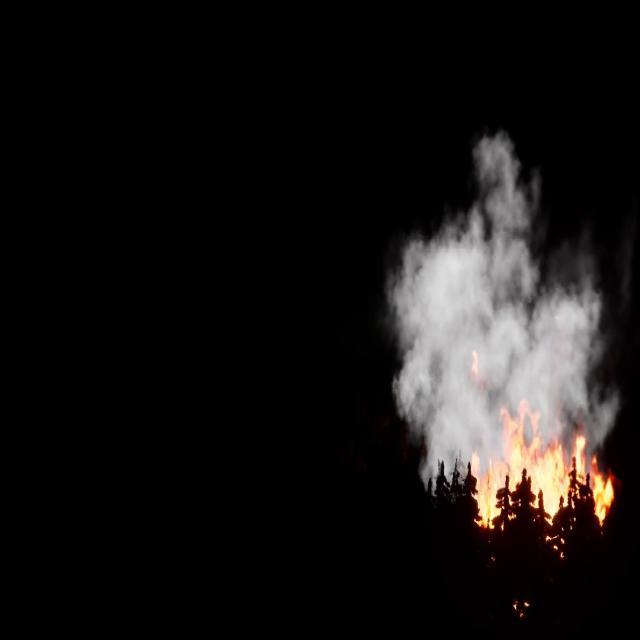fire: (470, 399, 619, 534)
smoke: (387, 126, 616, 488)
